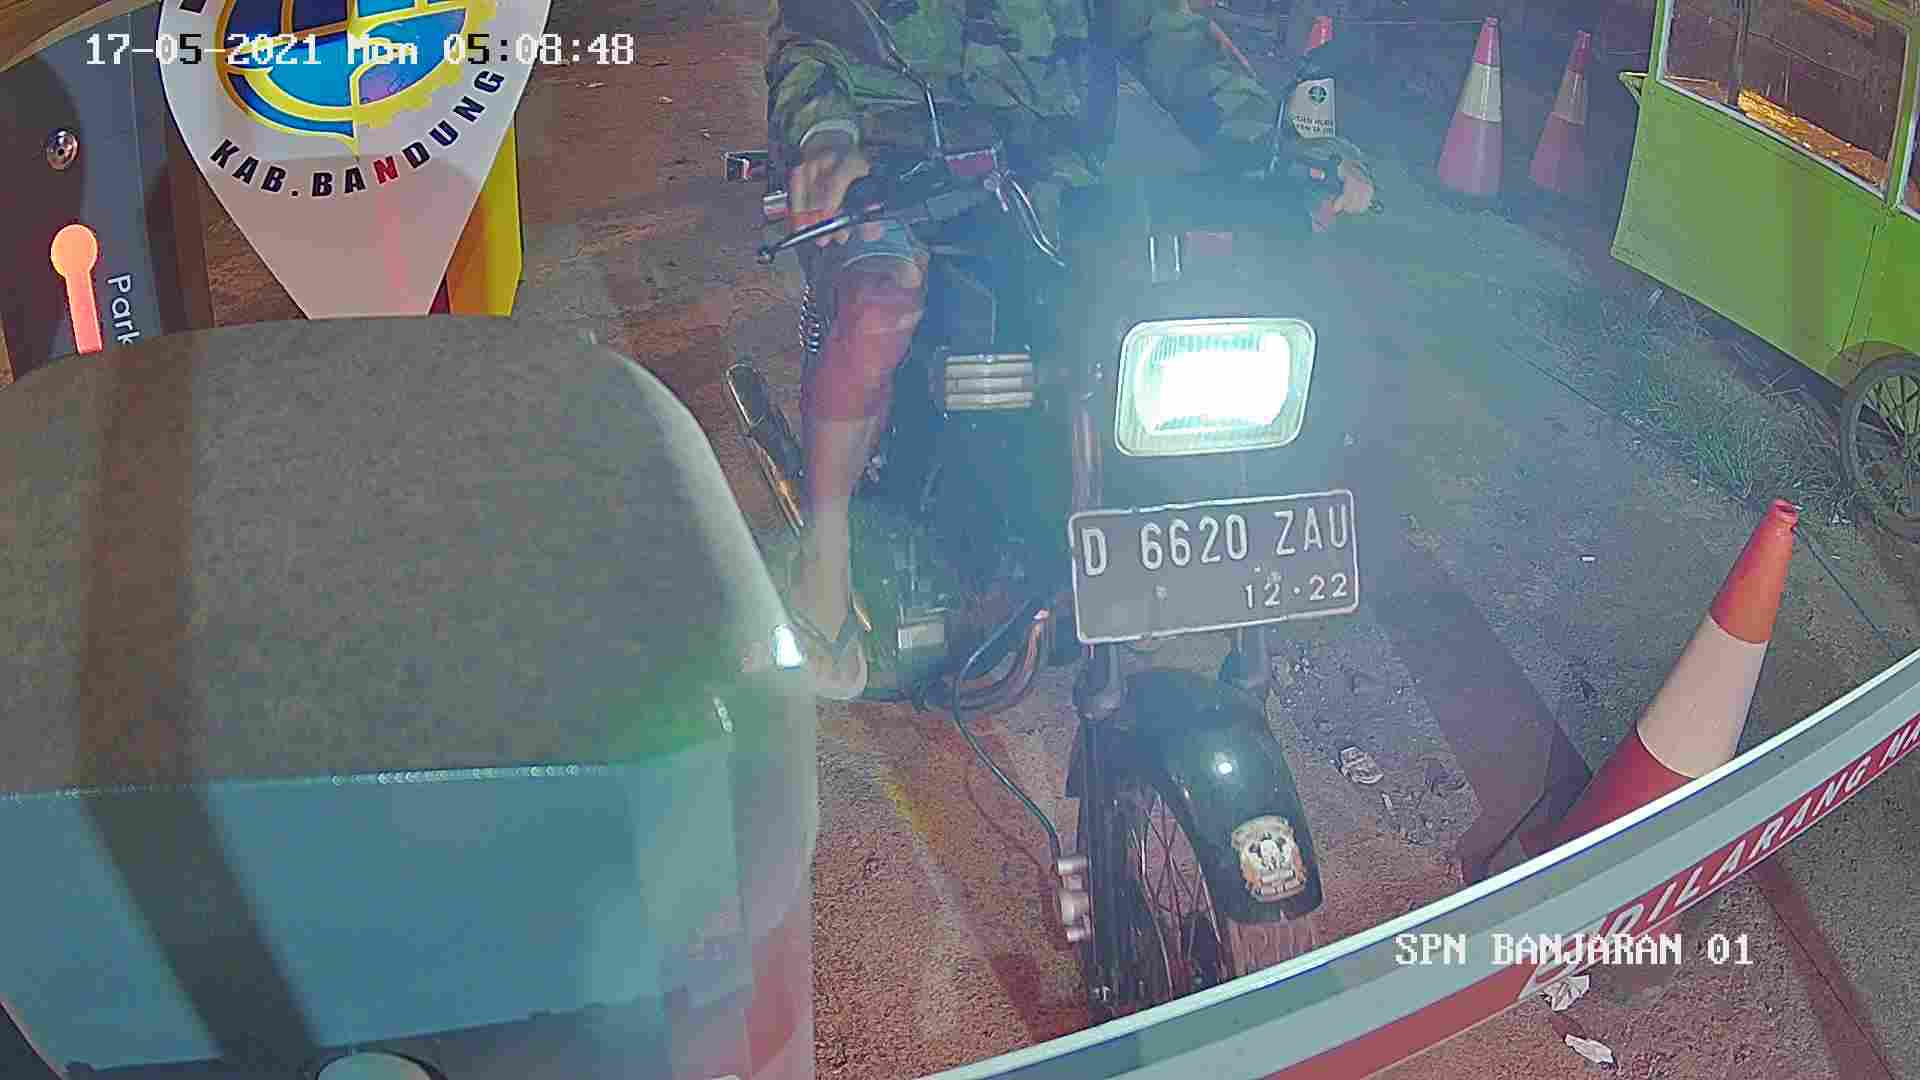motor: (806, 144, 1389, 1009)
